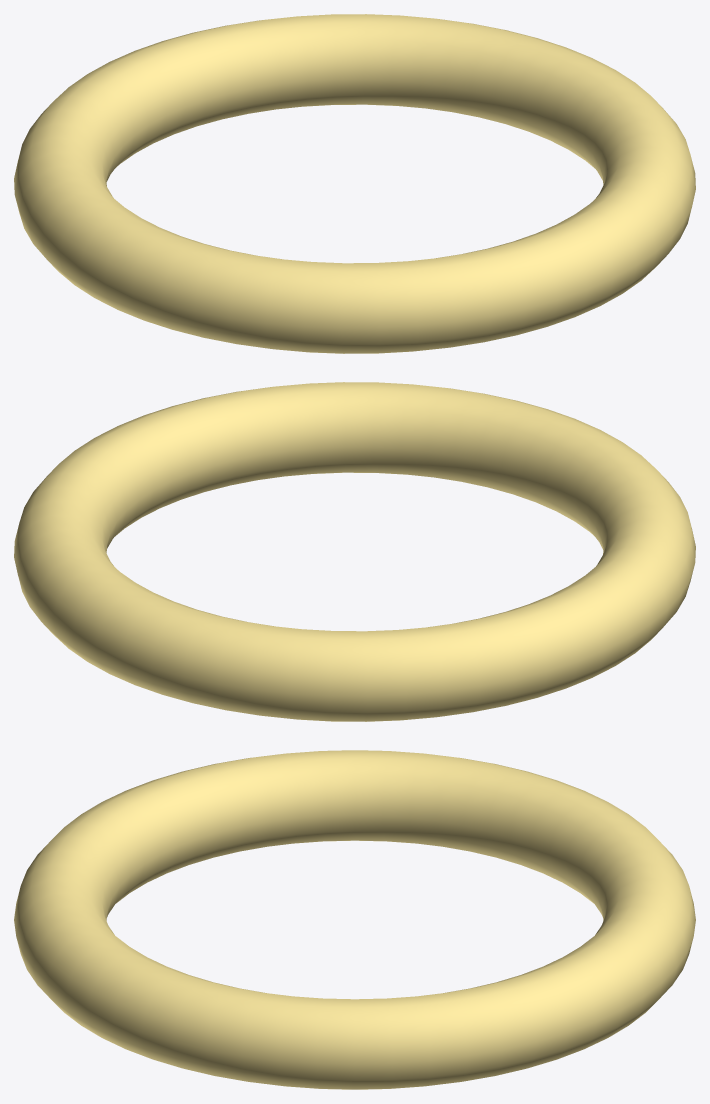
File: GoldenHalo.glb
3 renders of one model, top to bottom at view 1: azimuth 30°, elevation 25°; view 2: azimuth 150°, elevation 25°; view 3: azimuth 270°, elevation 25°, orthographic.
Parts seen in each view (by area): view 1: HaloRing; view 2: HaloRing; view 3: HaloRing.
Boxes of the visible parts, left/top/right/bottom form: HaloRing: left=14, top=14, right=695, bottom=353; HaloRing: left=14, top=382, right=695, bottom=721; HaloRing: left=14, top=750, right=695, bottom=1089.
Size of the model in its own units: 0.972 by 0.1287 by 0.972.
